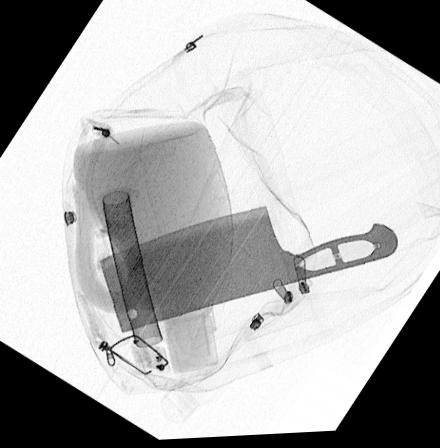Knife: (97, 208, 397, 333)
